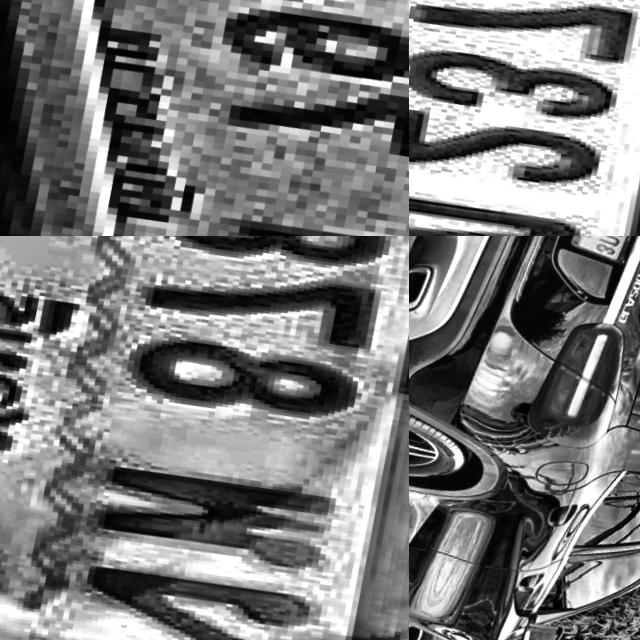license-plate: (0, 236, 409, 640), (0, 0, 409, 236), (409, 0, 640, 236), (557, 236, 640, 281)
